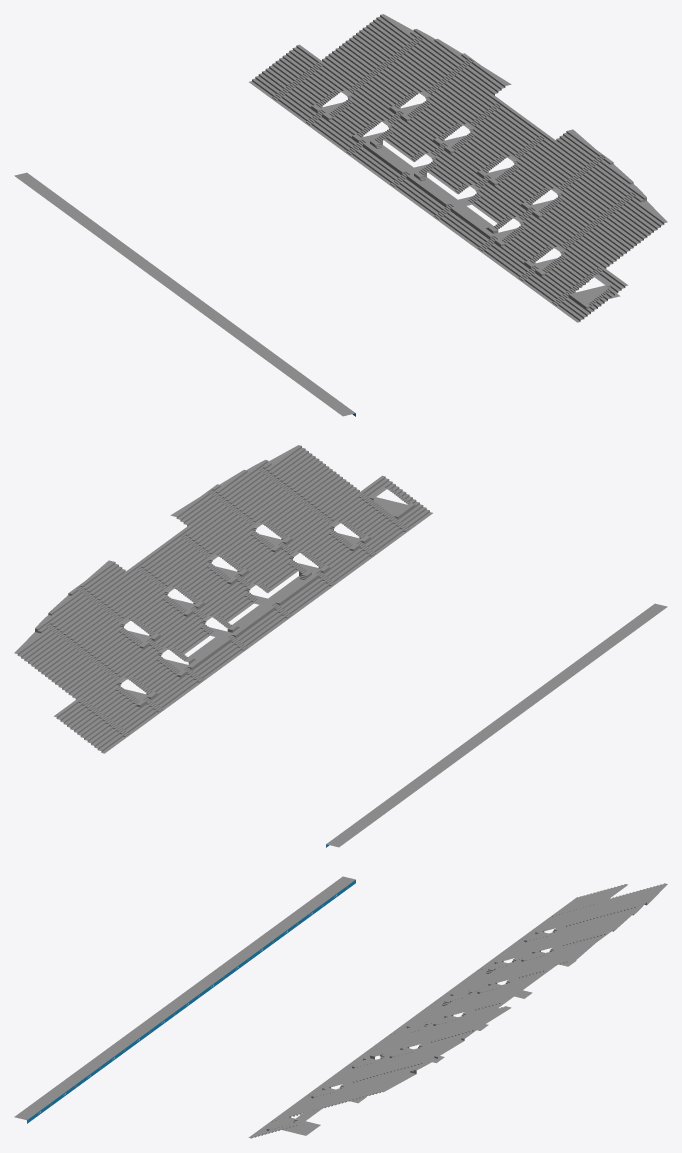
The model's file is ArquibancadaBase.FBX.
3 renders of one model, top to bottom at view 1: azimuth 30°, elevation 25°; view 2: azimuth 150°, elevation 25°; view 3: azimuth 330°, elevation 25°, orthographic.
Parts seen in each view (by area): view 1: Arquibancada03, Arquibancada07, Arquibancada04, Arquibancada06, Arquibancada02, Arquibancada08, Arquibancada05, Arquibancada, ArquibancadaEscada06, ArquibancadaEscada05, ArquibancadaEscada04, ArquibancadaEscada03 (+6 smaller); view 2: Arquibancada07, Arquibancada03, Arquibancada04, Arquibancada06, Arquibancada08, Arquibancada02, Arquibancada05, Arquibancada, ArquibancadaEscada06, ArquibancadaEscada05, ArquibancadaEscada04, ArquibancadaEscada03 (+6 smaller); view 3: Arquibancada, Arquibancada03, Arquibancada07, Arquibancada04, Arquibancada02, Arquibancada06, Arquibancada08, Arquibancada05, ArquibancadaEscada06, ArquibancadaEscada05, ArquibancadaEscada04, ArquibancadaEscada03 (+4 smaller).
Part boxes in pixels (x1=…): Arquibancada03: x1=484, y1=157, x2=638, y2=276; Arquibancada07: x1=312, y1=36, x2=470, y2=150; Arquibancada04: x1=440, y1=129, x2=602, y2=247; Arquibancada06: x1=352, y1=61, x2=511, y2=182; Arquibancada02: x1=525, y1=192, x2=667, y2=301; Arquibancada08: x1=278, y1=14, x2=423, y2=120; Arquibancada05: x1=396, y1=103, x2=544, y2=215; Arquibancada: x1=14, y1=172, x2=355, y2=416; ArquibancadaEscada06: x1=345, y1=58, x2=474, y2=184; ArquibancadaEscada05: x1=389, y1=100, x2=505, y2=216; ArquibancadaEscada04: x1=433, y1=132, x2=549, y2=248; ArquibancadaEscada03: x1=477, y1=154, x2=606, y2=278; Arquibancada07: x1=43, y1=588, x2=197, y2=707; Arquibancada03: x1=211, y1=467, x2=369, y2=581; Arquibancada04: x1=170, y1=492, x2=329, y2=613; Arquibancada06: x1=79, y1=560, x2=241, y2=678; Arquibancada08: x1=14, y1=623, x2=156, y2=732; Arquibancada02: x1=258, y1=445, x2=403, y2=551; Arquibancada05: x1=137, y1=534, x2=285, y2=646; Arquibancada: x1=326, y1=603, x2=667, y2=847; ArquibancadaEscada06: x1=75, y1=585, x2=244, y2=682; ArquibancadaEscada05: x1=132, y1=563, x2=288, y2=650; ArquibancadaEscada04: x1=176, y1=531, x2=332, y2=618; ArquibancadaEscada03: x1=207, y1=489, x2=372, y2=586; Arquibancada: x1=14, y1=876, x2=355, y2=1123; Arquibancada03: x1=312, y1=1033, x2=470, y2=1092; Arquibancada07: x1=485, y1=909, x2=638, y2=966; Arquibancada04: x1=353, y1=1005, x2=511, y2=1063; Arquibancada02: x1=279, y1=1065, x2=424, y2=1117; Arquibancada06: x1=440, y1=937, x2=602, y2=998; Arquibancada08: x1=525, y1=883, x2=667, y2=936; Arquibancada05: x1=397, y1=973, x2=544, y2=1030; ArquibancadaEscada06: x1=437, y1=934, x2=606, y2=999; ArquibancadaEscada05: x1=393, y1=969, x2=549, y2=1031; ArquibancadaEscada04: x1=349, y1=1002, x2=505, y2=1063; ArquibancadaEscada03: x1=309, y1=1030, x2=474, y2=1093.
Size of the model in its own units: 72.14 by 19.68 by 113.
